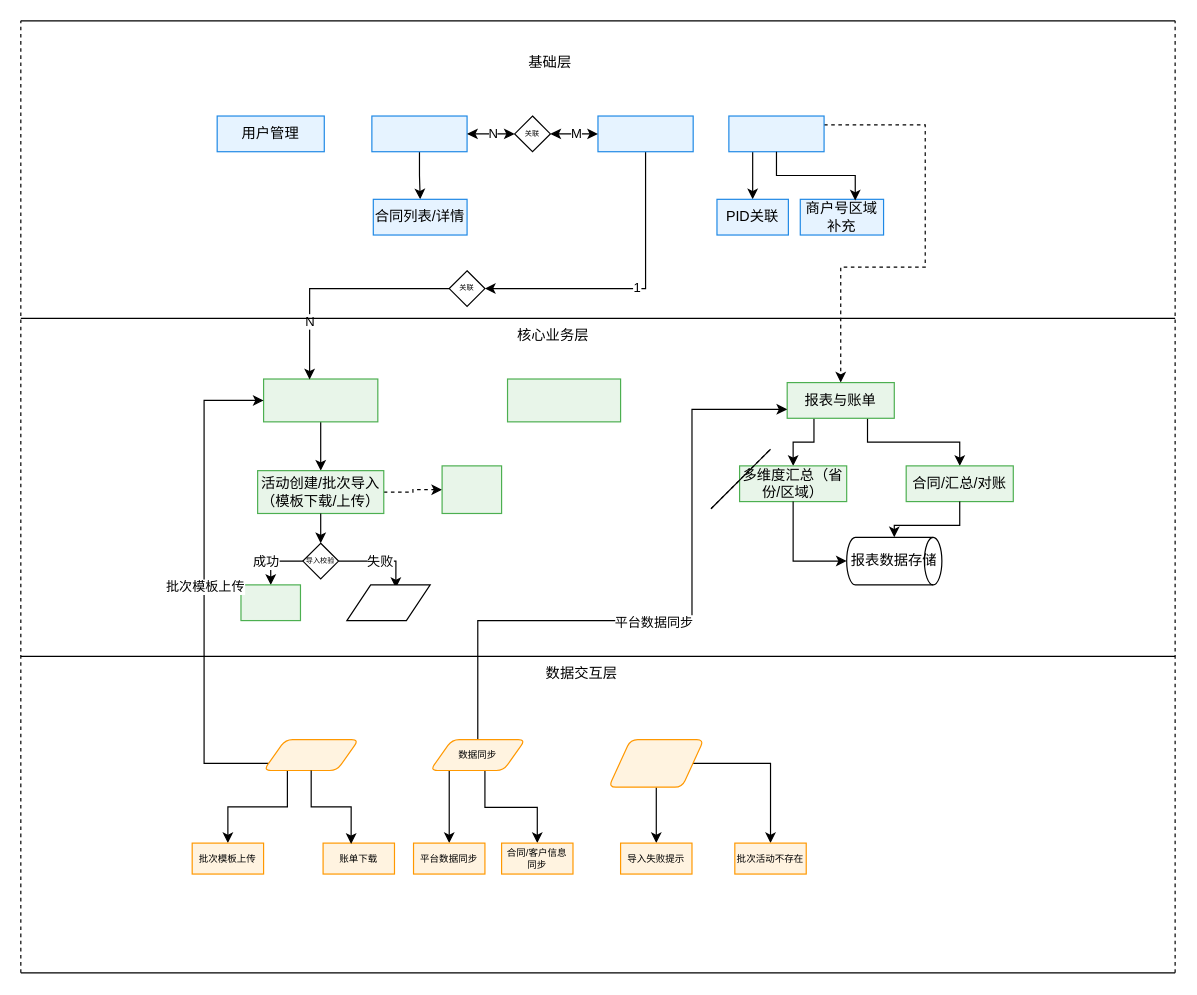
Some shapes in this 1197 by 995 pixel diagram are drawn without their labels. Here are the shapes that lost their labels. From the top down, the box of each, then its label:
(371, 115, 467, 152): 合同管理
(597, 115, 693, 152): 活动管理
(728, 115, 824, 152): 门店与商户管理
(262, 378, 378, 422): 活动与批次管理
(506, 378, 621, 422): 混资与分账
(441, 465, 502, 513): 异常批次处理
(240, 584, 300, 621): 批次列表
(346, 584, 430, 621): 错误提示
(262, 738, 359, 771): 数据导入与导出
(607, 738, 704, 787): 异常处理
